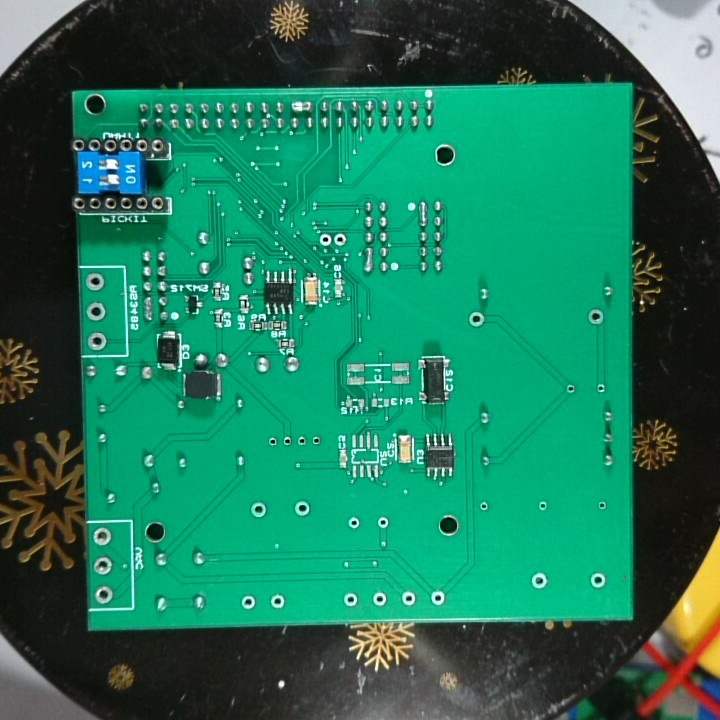F: (84, 300, 109, 324), (91, 524, 114, 550), (85, 329, 111, 352), (93, 581, 117, 605), (527, 570, 553, 592), (84, 271, 107, 295), (248, 498, 271, 520), (586, 305, 608, 327), (427, 587, 449, 609), (467, 308, 488, 331), (91, 556, 114, 577), (268, 590, 289, 612), (589, 569, 609, 592), (399, 587, 419, 610), (340, 590, 362, 609), (239, 591, 258, 613), (293, 498, 312, 519), (332, 228, 348, 250), (370, 589, 388, 608), (317, 229, 332, 250), (346, 514, 362, 533), (476, 498, 491, 515), (375, 515, 391, 530), (281, 431, 293, 451), (564, 381, 578, 397), (267, 433, 279, 450), (311, 433, 323, 450), (596, 497, 609, 512), (295, 433, 308, 448), (536, 498, 549, 512), (595, 381, 607, 395)
P: (415, 196, 432, 228), (288, 97, 315, 116), (141, 292, 154, 328), (361, 244, 376, 275)
